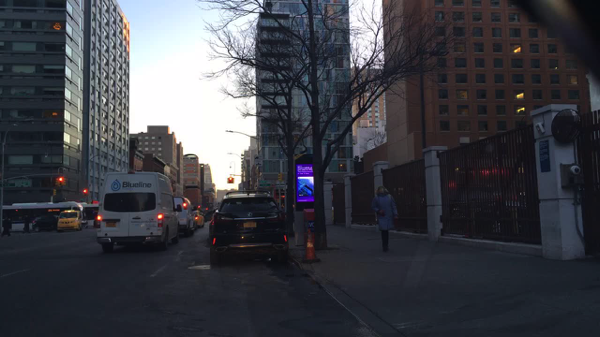bus: (0, 202, 85, 231), (82, 203, 101, 228)
car: (93, 171, 182, 253), (210, 190, 290, 265), (174, 196, 197, 236), (57, 210, 82, 231), (31, 216, 56, 233), (205, 208, 217, 223), (195, 210, 205, 228)
person: (370, 186, 398, 254), (0, 217, 12, 237), (23, 217, 30, 233)
traffic light: (59, 176, 63, 186), (278, 173, 282, 182), (63, 176, 66, 186), (55, 176, 58, 185), (83, 189, 87, 194), (54, 190, 57, 196), (229, 177, 231, 184), (232, 178, 234, 184), (227, 178, 228, 184)
traffic sign: (0, 181, 15, 188), (21, 179, 30, 186), (258, 184, 271, 187), (259, 180, 266, 182)
